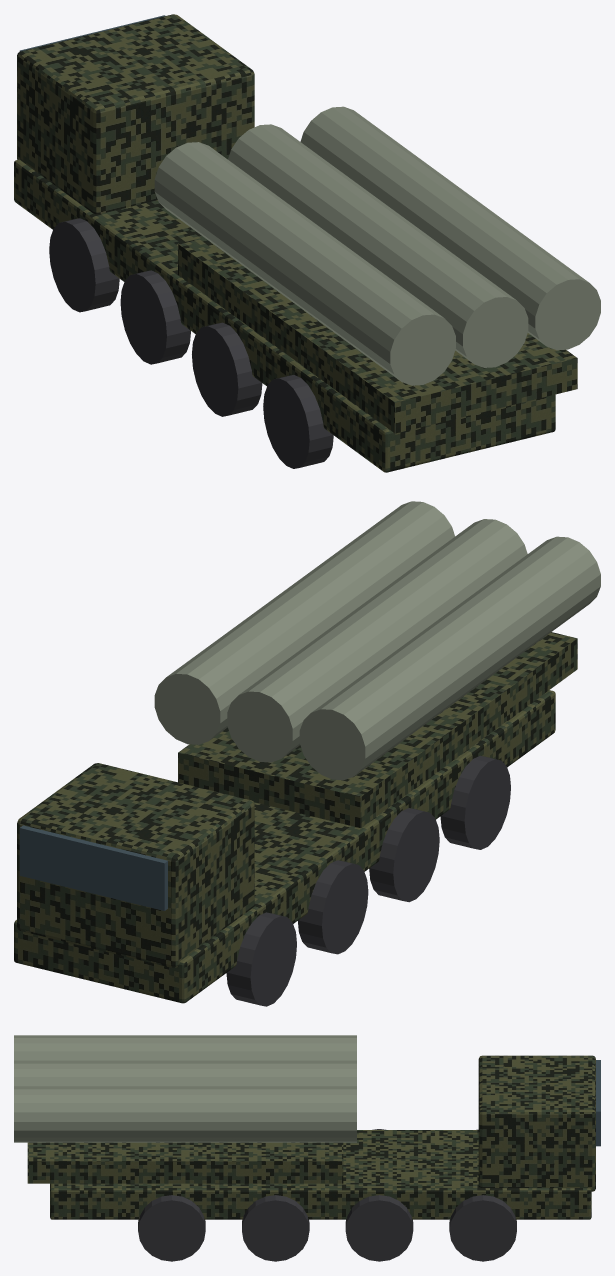
File: type_yj62.glb
3 views of the same model, one above another, from view 1: azimuth 30°, elevation 25°; view 2: azimuth 150°, elevation 25°; view 3: azimuth 270°, elevation 25° (orthographic). The views are drawn at different scales.
Parts seen in each view (by area): view 1: yj62_cab, yj62_tube0, yj62_chassis, yj62_base, yj62_tube1, yj62_tube2, yj62_wheel_-1_0, yj62_wheel_-1_1, yj62_wheel_-1_3, yj62_wheel_-1_2; view 2: yj62_cab, yj62_tube0, yj62_chassis, yj62_base, yj62_tube2, yj62_tube1, yj62_win, yj62_wheel_-1_3, yj62_wheel_-1_1, yj62_wheel_-1_2, yj62_wheel_-1_0; view 3: yj62_chassis, yj62_tube2, yj62_cab, yj62_base, yj62_tube0, yj62_tube1, yj62_wheel_1_1, yj62_wheel_1_2, yj62_wheel_1_3, yj62_wheel_1_0, yj62_win.
Part boxes in pixels (x1=…): yj62_cab: x1=17, y1=14, x2=254, y2=214; yj62_tube0: x1=154, y1=142, x2=455, y2=385; yj62_chassis: x1=14, y1=159, x2=555, y2=472; yj62_base: x1=178, y1=237, x2=577, y2=433; yj62_tube1: x1=228, y1=124, x2=528, y2=367; yj62_tube2: x1=300, y1=106, x2=600, y2=350; yj62_wheel_-1_0: x1=49, y1=218, x2=119, y2=312; yj62_wheel_-1_1: x1=120, y1=270, x2=190, y2=364; yj62_wheel_-1_3: x1=263, y1=375, x2=333, y2=468; yj62_wheel_-1_2: x1=192, y1=322, x2=262, y2=416; yj62_cab: x1=17, y1=763, x2=254, y2=967; yj62_tube0: x1=299, y1=536, x2=600, y2=780; yj62_chassis: x1=14, y1=690, x2=555, y2=1003; yj62_base: x1=178, y1=632, x2=577, y2=827; yj62_tube2: x1=154, y1=501, x2=454, y2=744; yj62_tube1: x1=227, y1=519, x2=527, y2=762; yj62_win: x1=19, y1=825, x2=167, y2=910; yj62_wheel_-1_3: x1=440, y1=755, x2=510, y2=849; yj62_wheel_-1_1: x1=298, y1=860, x2=368, y2=954; yj62_wheel_-1_2: x1=369, y1=808, x2=439, y2=902; yj62_wheel_-1_0: x1=226, y1=912, x2=296, y2=1006; yj62_chassis: x1=50, y1=1130, x2=591, y2=1219; yj62_tube2: x1=14, y1=1086, x2=356, y2=1142; yj62_cab: x1=478, y1=1055, x2=595, y2=1191; yj62_base: x1=27, y1=1142, x2=343, y2=1183; yj62_tube0: x1=14, y1=1035, x2=356, y2=1060; yj62_tube1: x1=14, y1=1061, x2=356, y2=1086; yj62_wheel_1_1: x1=345, y1=1195, x2=413, y2=1261; yj62_wheel_1_2: x1=242, y1=1195, x2=309, y2=1261; yj62_wheel_1_3: x1=138, y1=1195, x2=205, y2=1261; yj62_wheel_1_0: x1=449, y1=1195, x2=516, y2=1261; yj62_win: x1=596, y1=1060, x2=600, y2=1146.
Bounding box in the file's own units: 3.92 × 3.97 × 13.01.
4 materials, 1 textured.
